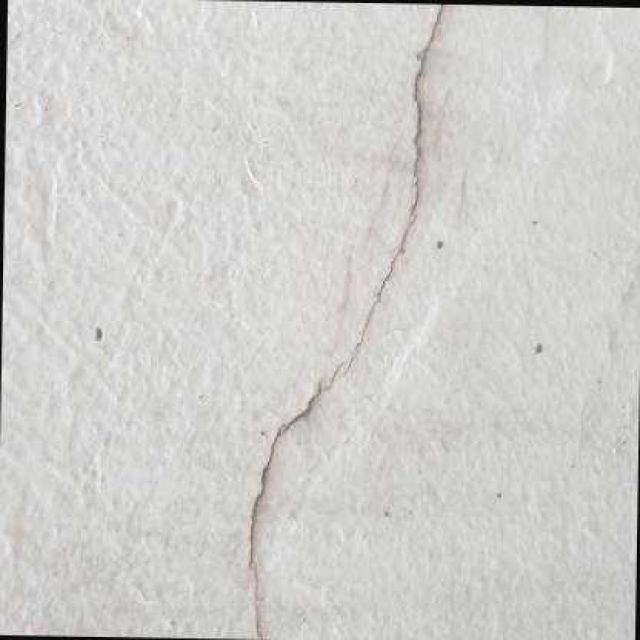D00: (246, 2, 441, 639)
